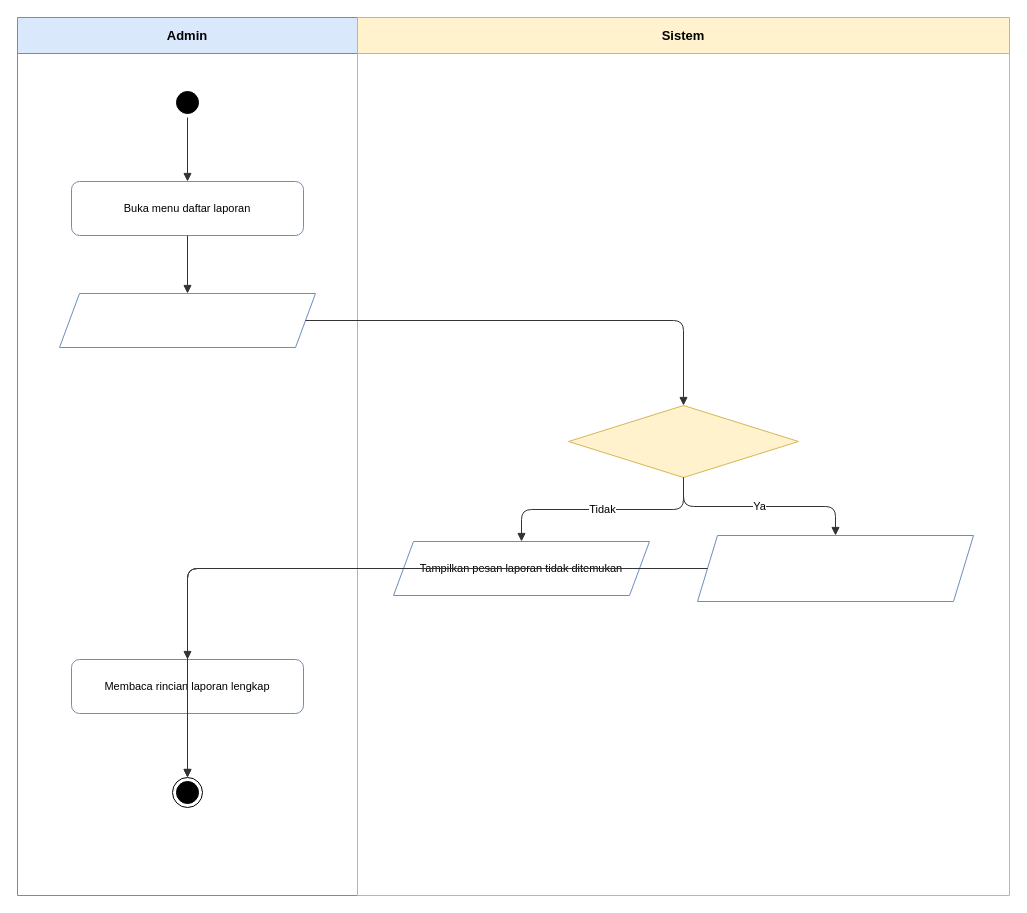
This 1027x913 diagram has some shape labels left out. Each missing label, with the centre of its shape:
"Apakah laporan tersebut ditemukan?" belongs at point 683,441.
"Pilih salah satu laporan untuk melihat rincian" belongs at point 187,320.
"Tampilkan identitas Admin, total denda, daftar peminjaman, dan pengembalian" belongs at point 835,568.
